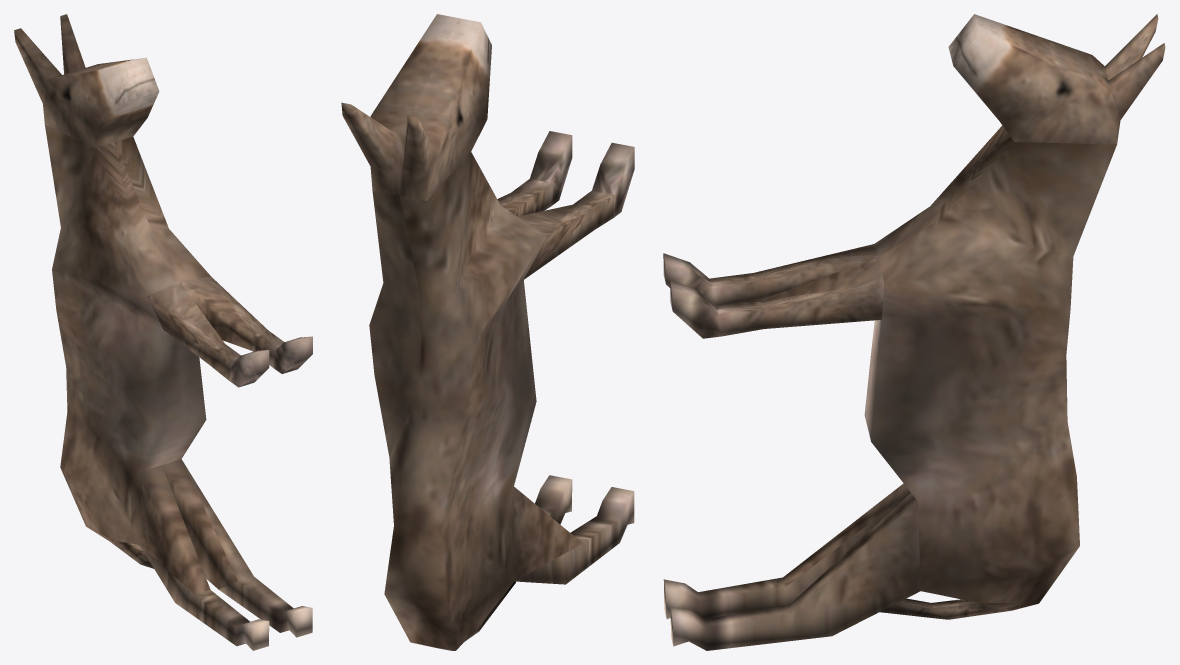
Rendered from donkey_7.fbx.
The picture shows the model from 3 angles, left to right: view 1: azimuth 30°, elevation 25°; view 2: azimuth 150°, elevation 25°; view 3: azimuth 270°, elevation 25°; orthographic projection. The views are drawn at different scales.
Visible parts, largest first — view 1: donkey_7; view 2: donkey_7; view 3: donkey_7.
Part boxes in pixels (box(x1,y1,x2,y2)): donkey_7: box(14, 14, 312, 650); donkey_7: box(341, 14, 634, 650); donkey_7: box(663, 14, 1165, 650).
Size of the model in its own units: 7.53 by 35.73 by 27.25.
